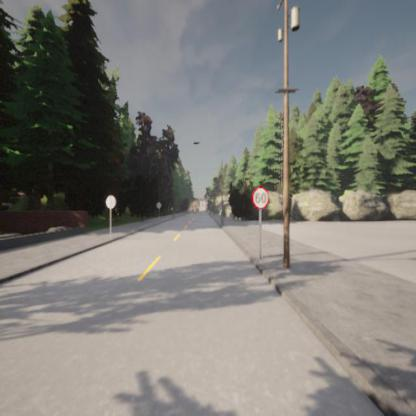traffic_sign_60: (252, 188, 270, 208)
